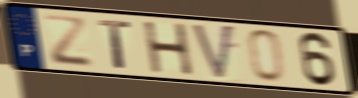0: (244, 27, 289, 85)
6: (296, 30, 337, 89)
H: (141, 20, 197, 77)
T: (96, 17, 134, 71)
V: (189, 22, 237, 83)
Z: (41, 12, 95, 69)
